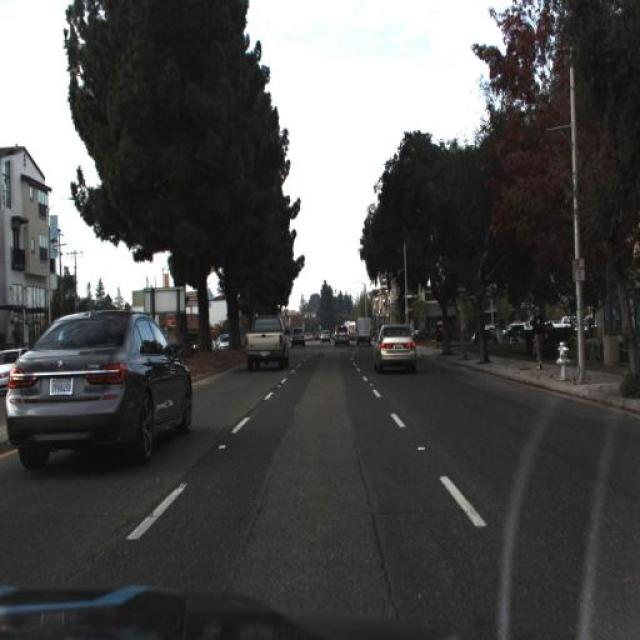car: (2, 300, 200, 478), (236, 304, 292, 376), (367, 316, 422, 384), (351, 308, 377, 351), (328, 318, 354, 352)
trafficLight: (528, 298, 550, 374)
